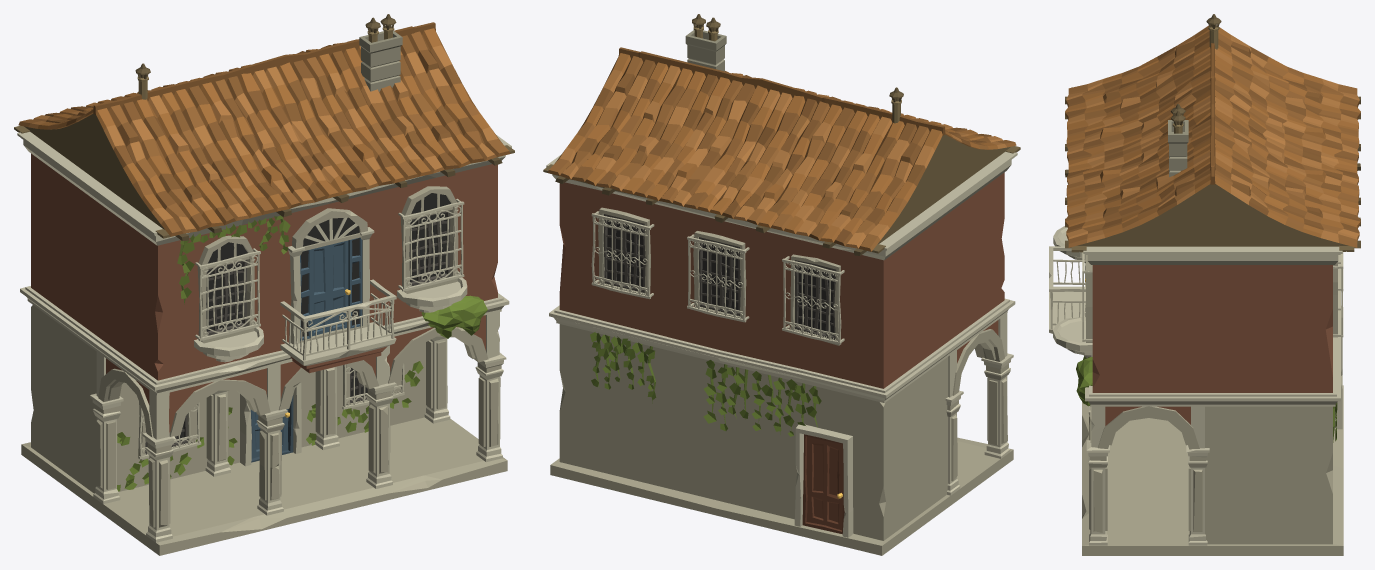
File: Building_9.fbx
3 renders of one model, left to right at view 1: azimuth 30°, elevation 25°; view 2: azimuth 150°, elevation 25°; view 3: azimuth 270°, elevation 25°, orthographic. The views are drawn at different scales.
Parts seen in each view (by area): view 1: Building_9; view 2: Building_9; view 3: Building_9.
Boxes of the visible parts, x1,y1,x2,y2 form: Building_9: (14,14,514,555); Building_9: (543,14,1020,555); Building_9: (1049,14,1360,555).
Bounding box in the file's own units: 895 × 1042 × 713.
